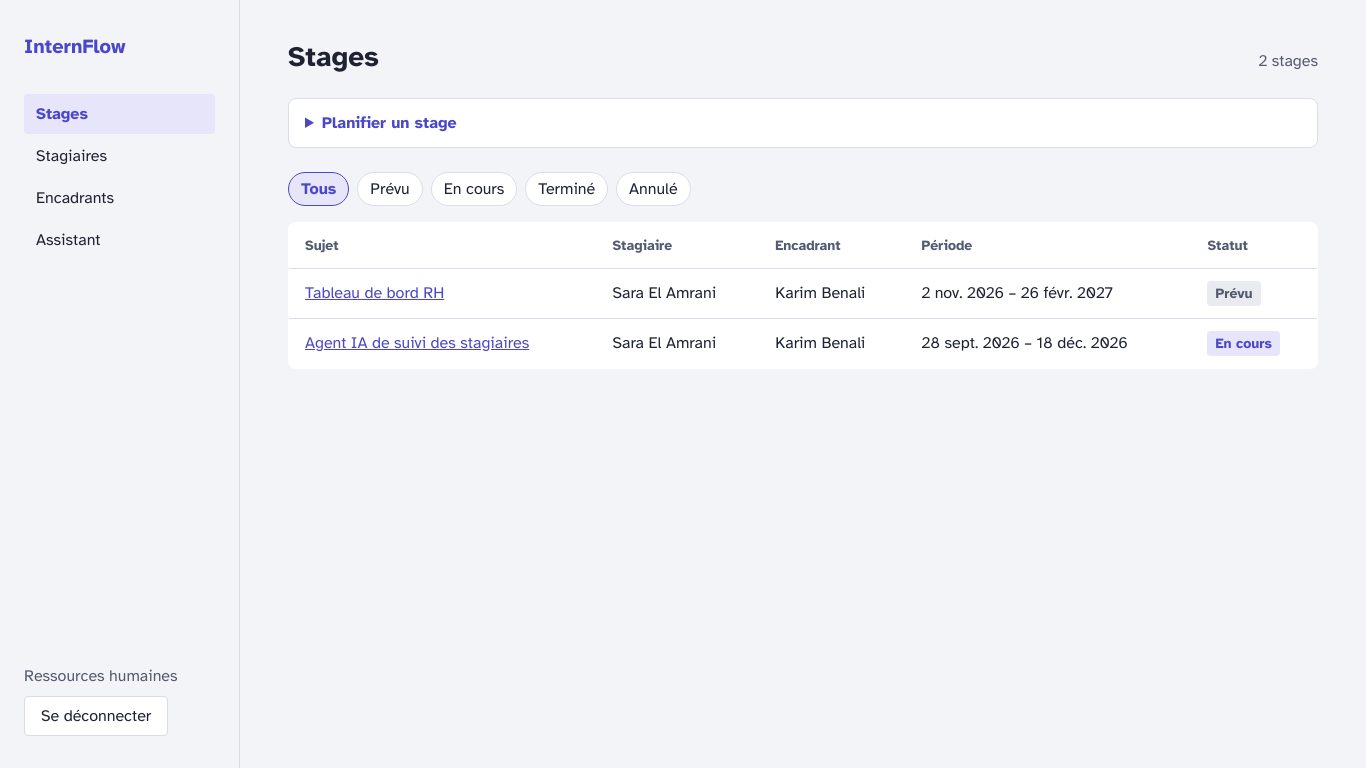
Test: liste des stages › permet aux RH de planifier un stage
The width and height of the screenshot is (1366, 768).
Click the heading "Planifier un stage" at [389, 123], box [322,113,457,133]
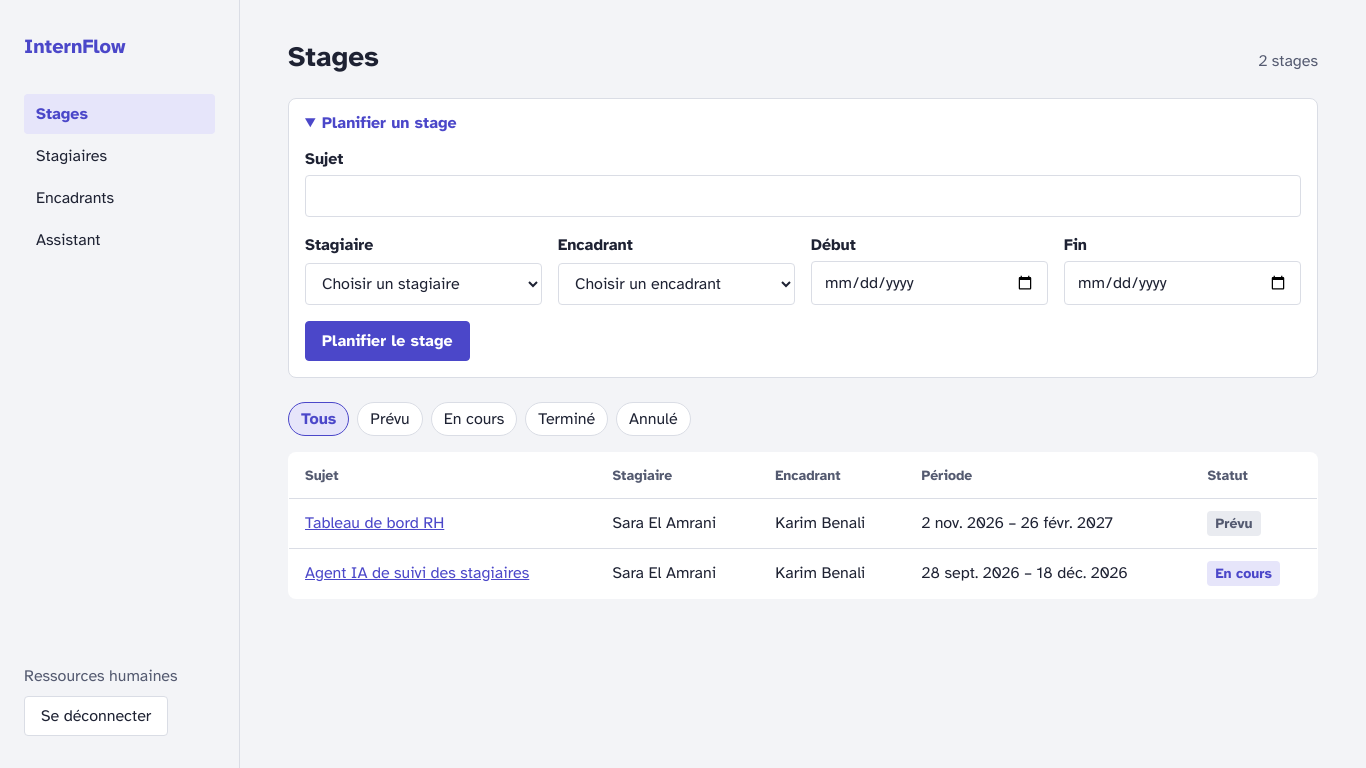
Type "Migration vers Kubernetes" into the field labelled "Sujet" at [803, 196], box [305,175,1301,217]
Select "Sara El Amrani" in the dropdown labelled "Stagiaire" at [424, 284], box [305,263,542,305]
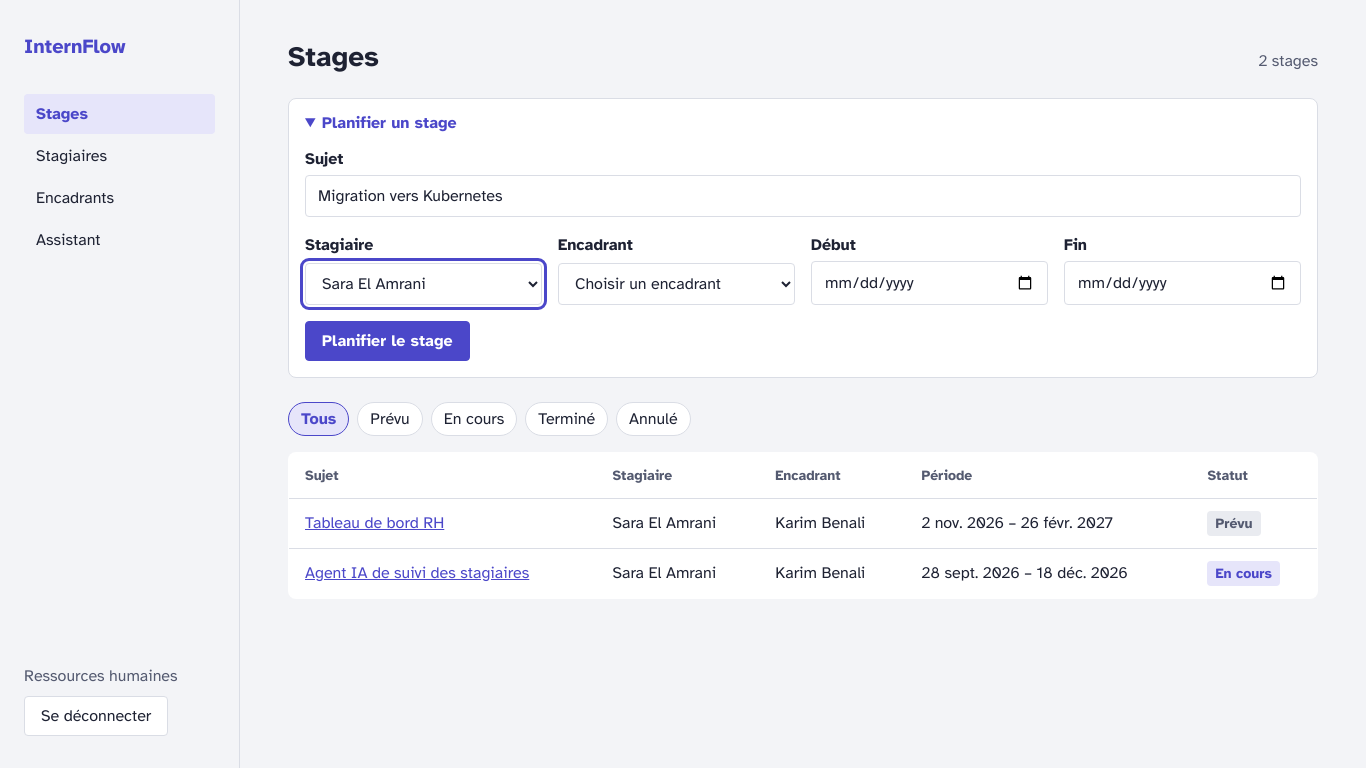
Select "Karim Benali (Data & IA)" in the dropdown labelled "Encadrant" at [676, 284], box [558,263,795,305]
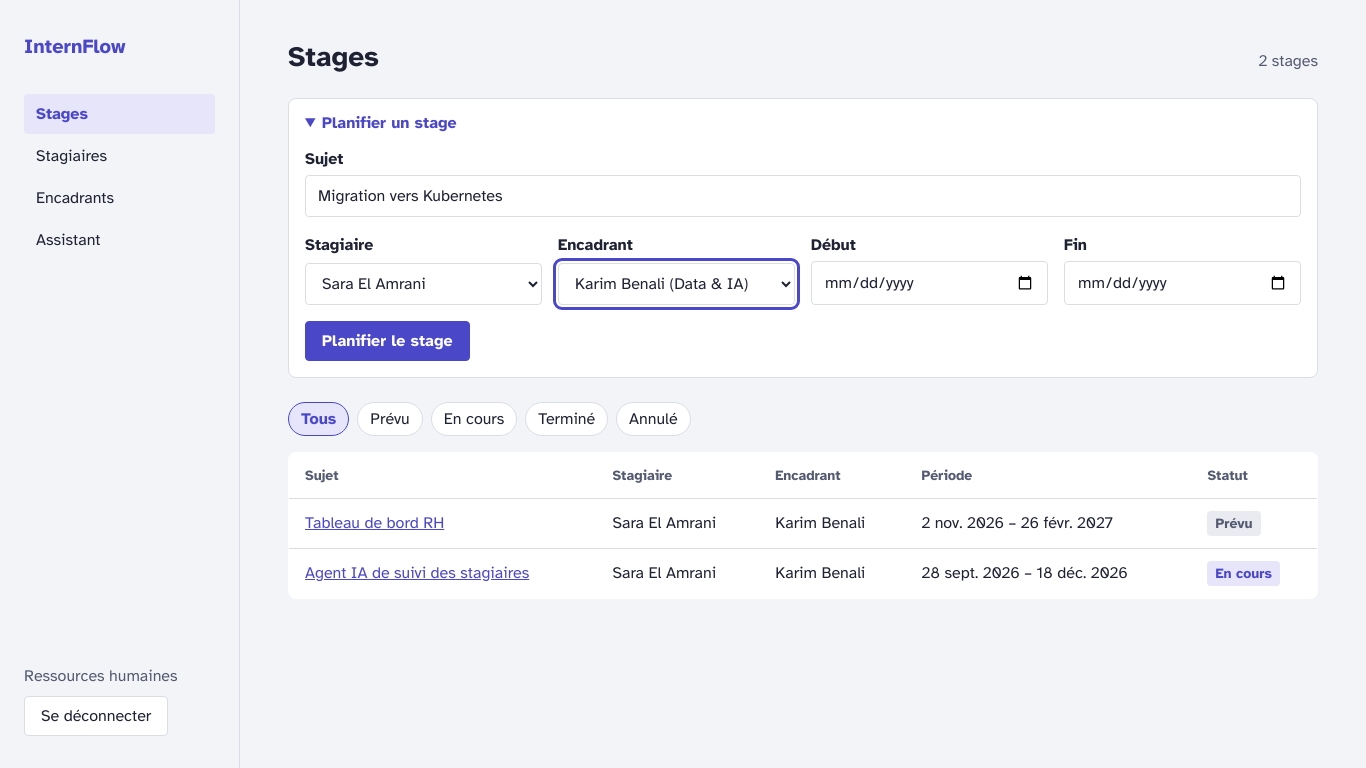
Type "2026-11-02" into the date field labelled "Début" at [930, 283], box [811,261,1048,305]
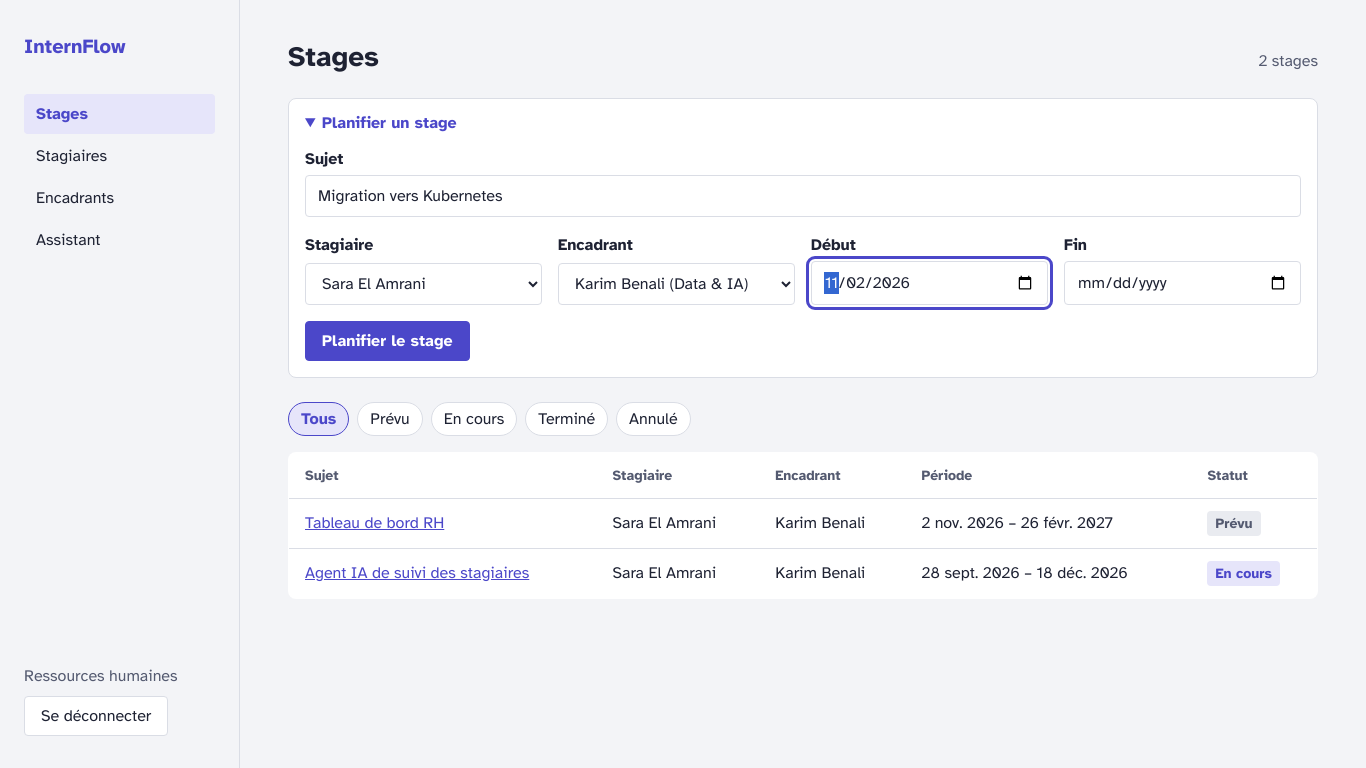
Type "2027-01-29" into the date field labelled "Fin" at [1182, 283], box [1064,261,1301,305]
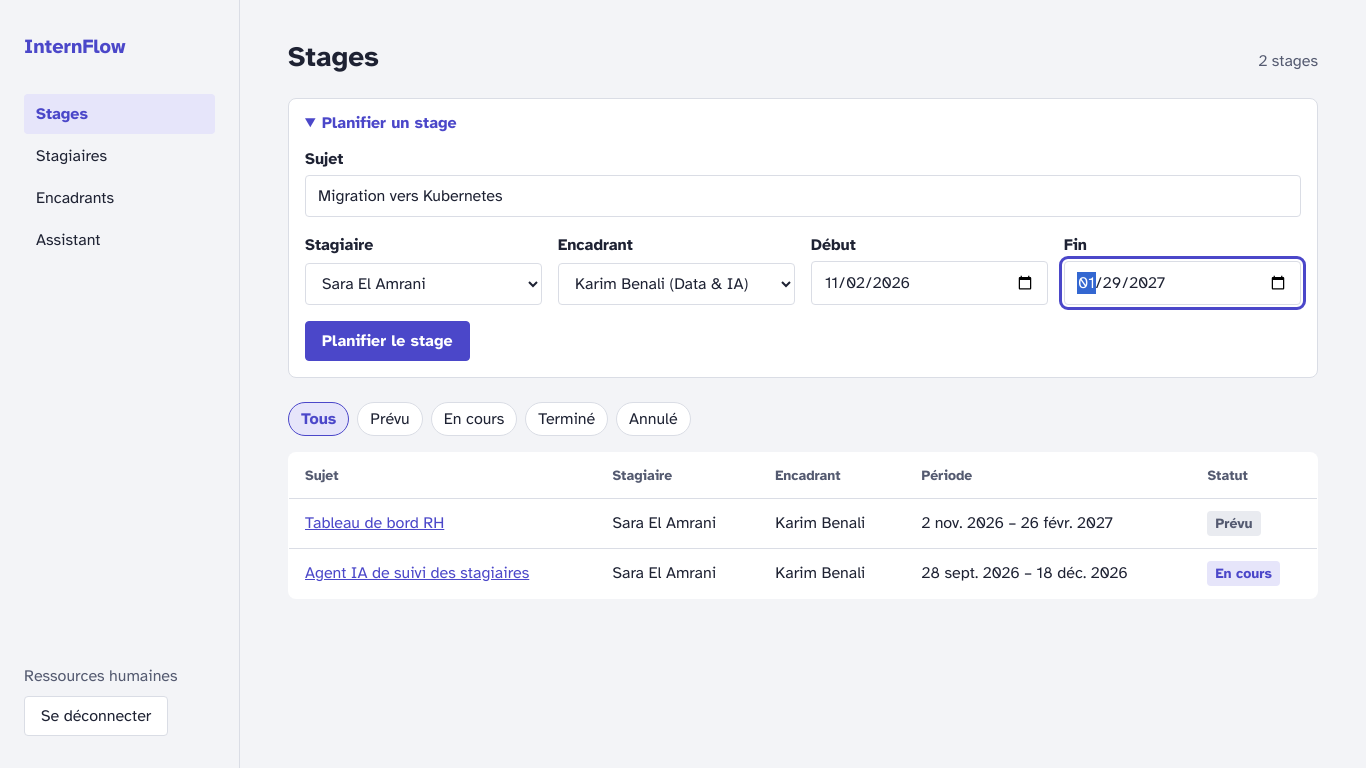
Click the button "Planifier le stage" at [387, 341], box [305,321,470,361]
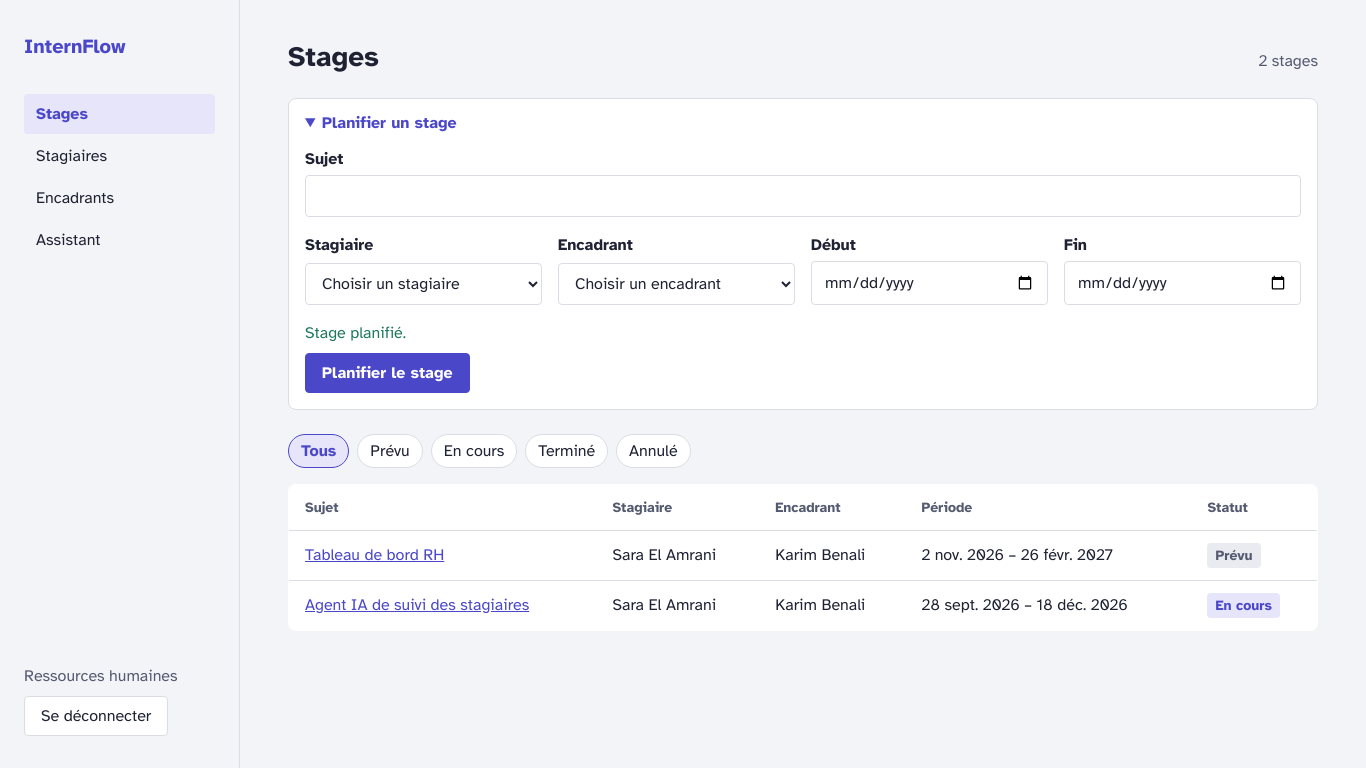
Result: the text "Stage planifié." is shown at [305,321,406,345]
